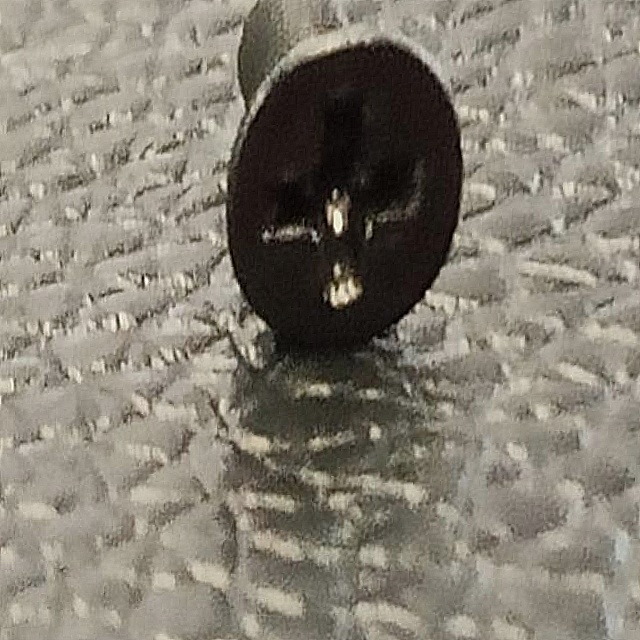phillips: (221, 10, 472, 363)
